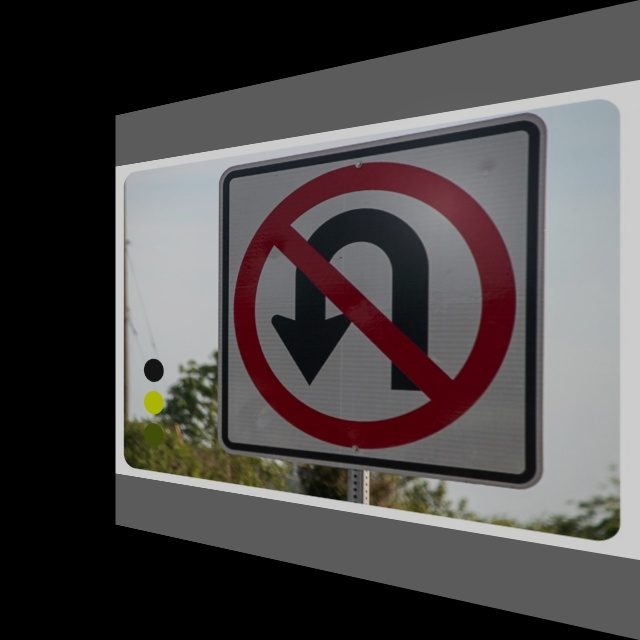U_Turn_Prohibited: (234, 137, 527, 474)
